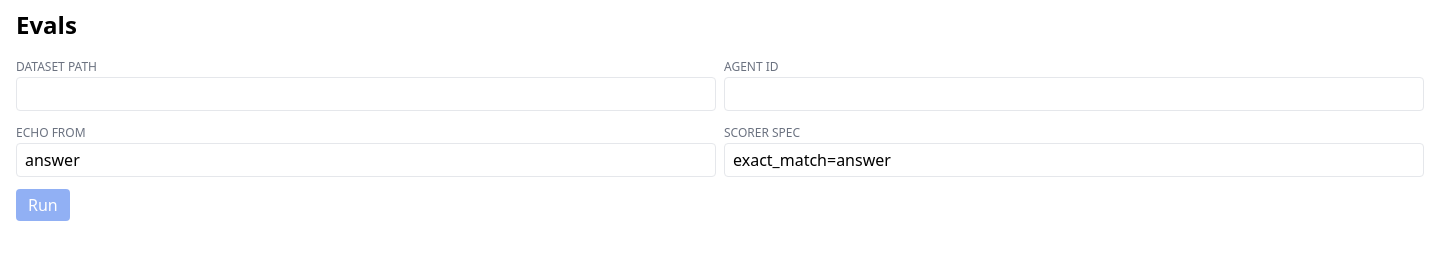
Test case: Evals › submits the form and renders the EvalReport headline
The width and height of the screenshot is (1440, 269).
Step 1. Type "/tmp/weather.jsonl" into the field labelled "Dataset" → (366, 94), box [16, 77, 716, 111]
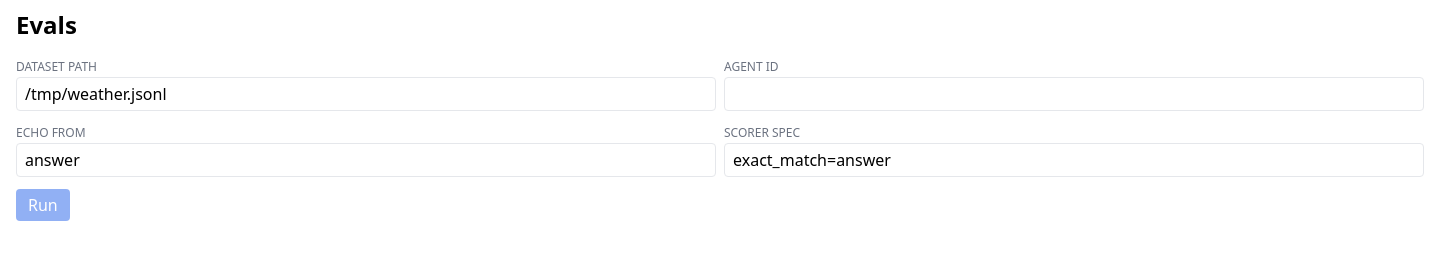
Step 2. Type "weather" into the field labelled "Agent" → (1074, 94), box [724, 77, 1424, 111]
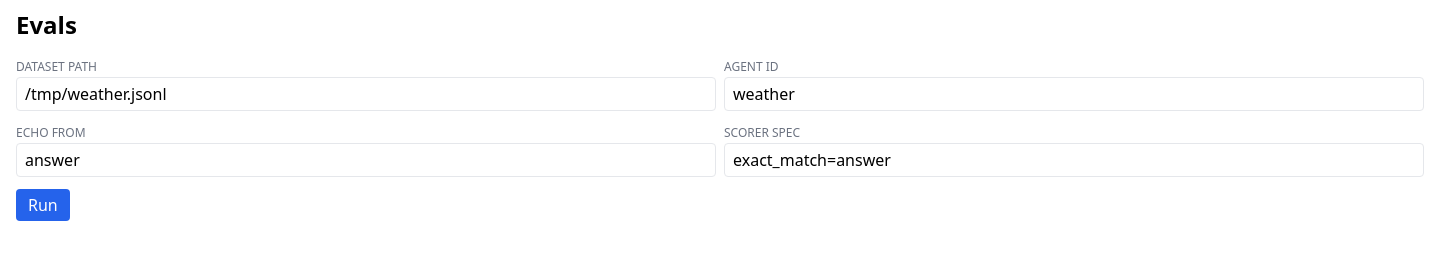
Step 3. Click the button "Run" → (43, 205), box [16, 189, 70, 221]
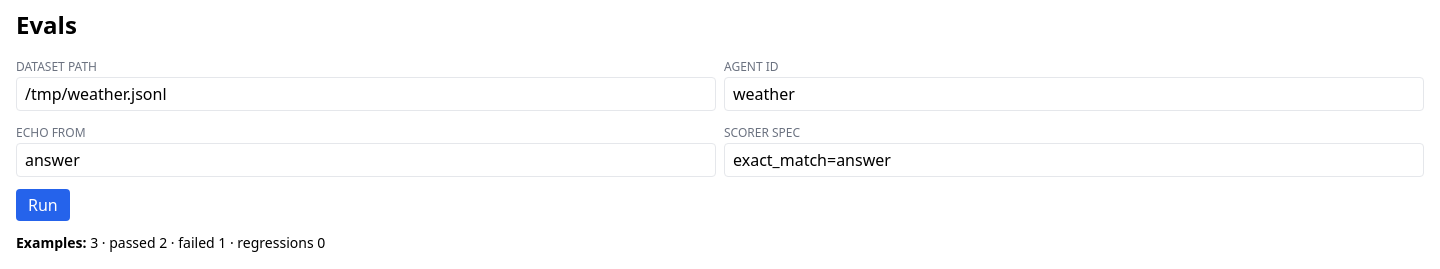
expect the element named "eval-report" is shown: met, box [16, 233, 325, 252]
expect the text with test id "passed" reads "2": met, box [159, 233, 167, 252]
expect the text with test id "failed" reads "1": met, box [218, 233, 226, 252]
